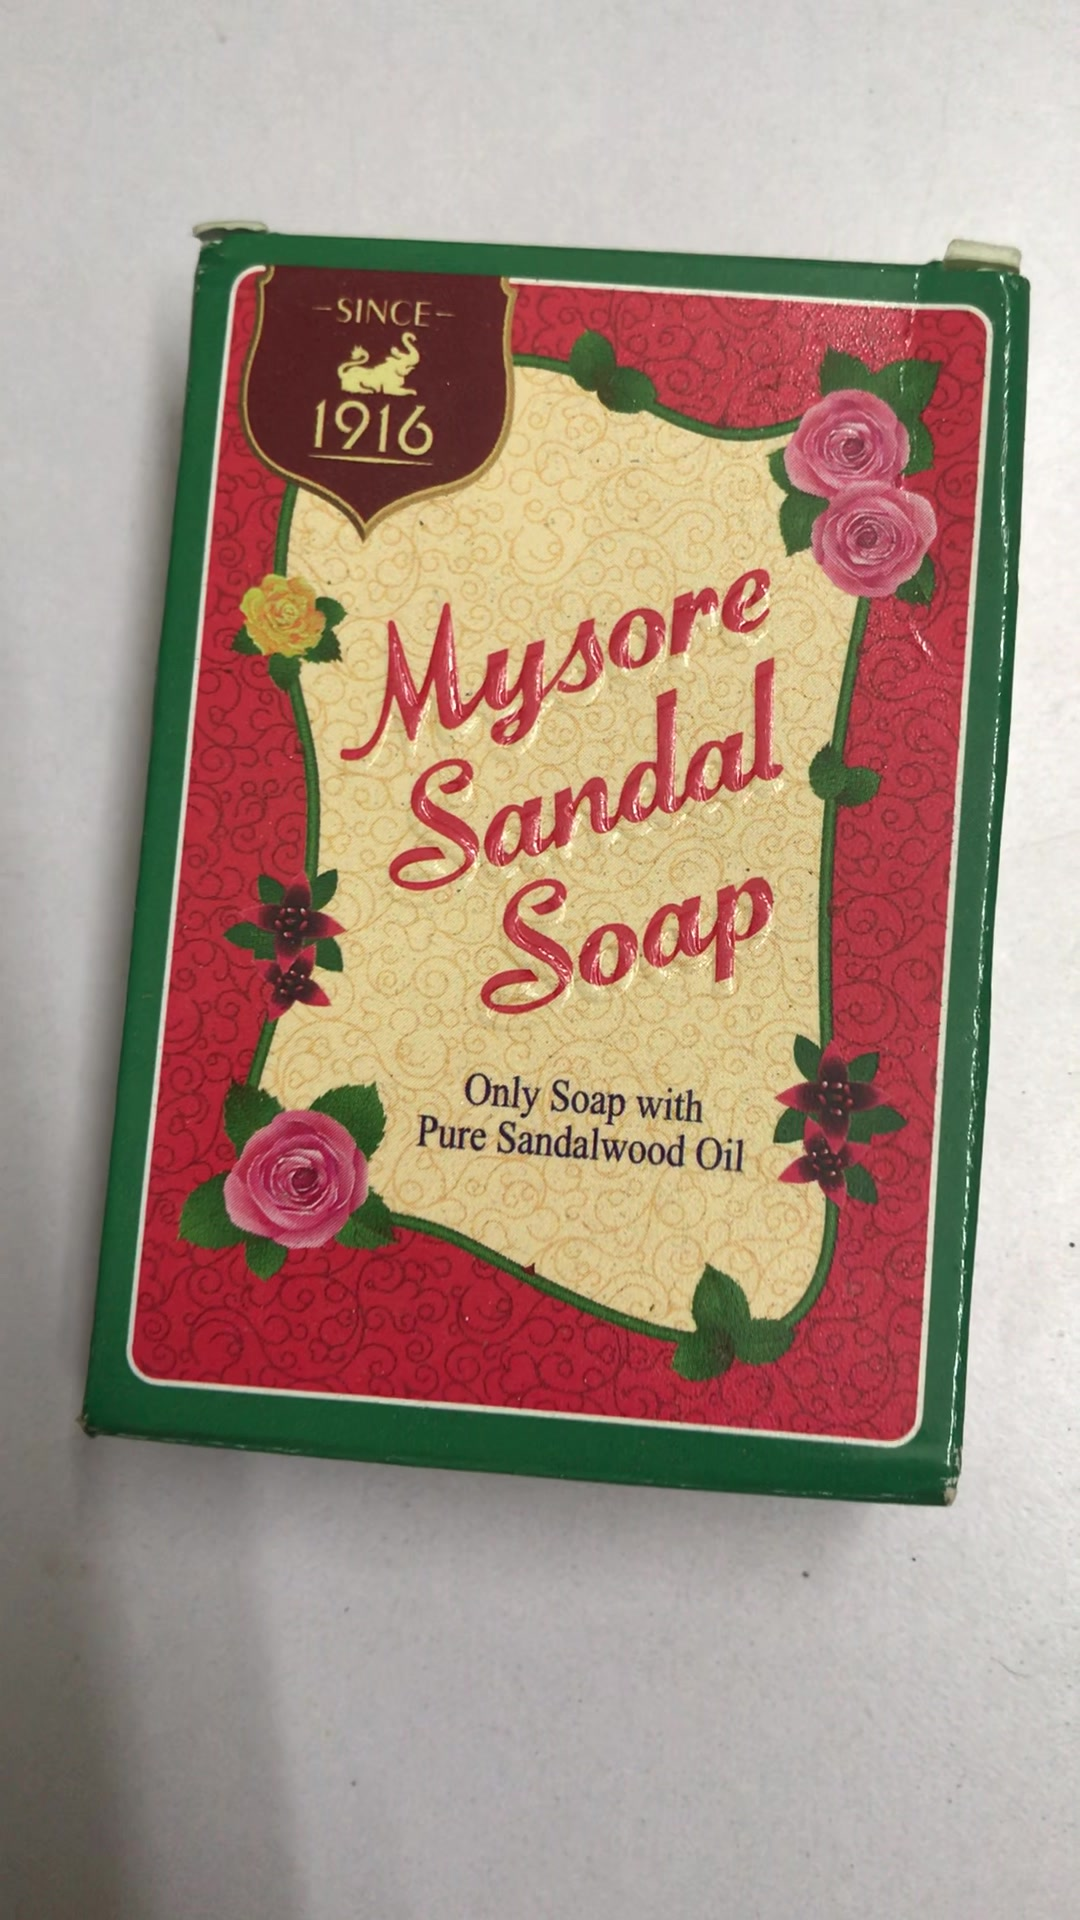mysore sandal soap: (82, 231, 1026, 1513)
